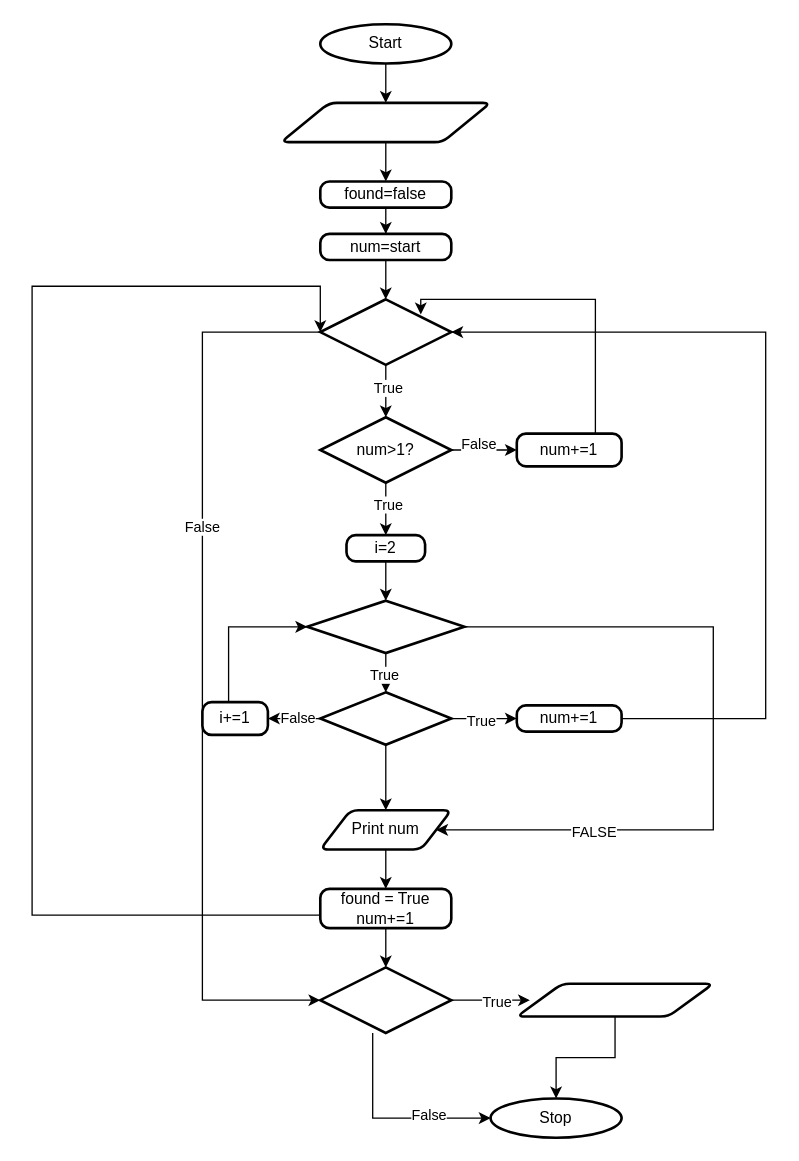
This 799x1161 diagram has some shape labels left out. Each missing label, with the centre of its shape:
found==false?: pixel 385 999
i<=root(num)?: pixel 385 626
Input Start Input Stop: pixel 385 122
num%i==0?: pixel 385 717
num<=stop?: pixel 385 331
Print "No Primes": pixel 614 999
